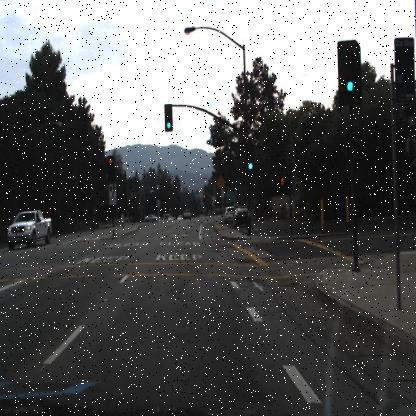car: (6, 210, 51, 250), (233, 204, 251, 229)
trafficLight: (107, 155, 115, 177)
trafficLight-Green: (338, 40, 362, 102), (164, 103, 172, 132), (246, 150, 253, 173)
